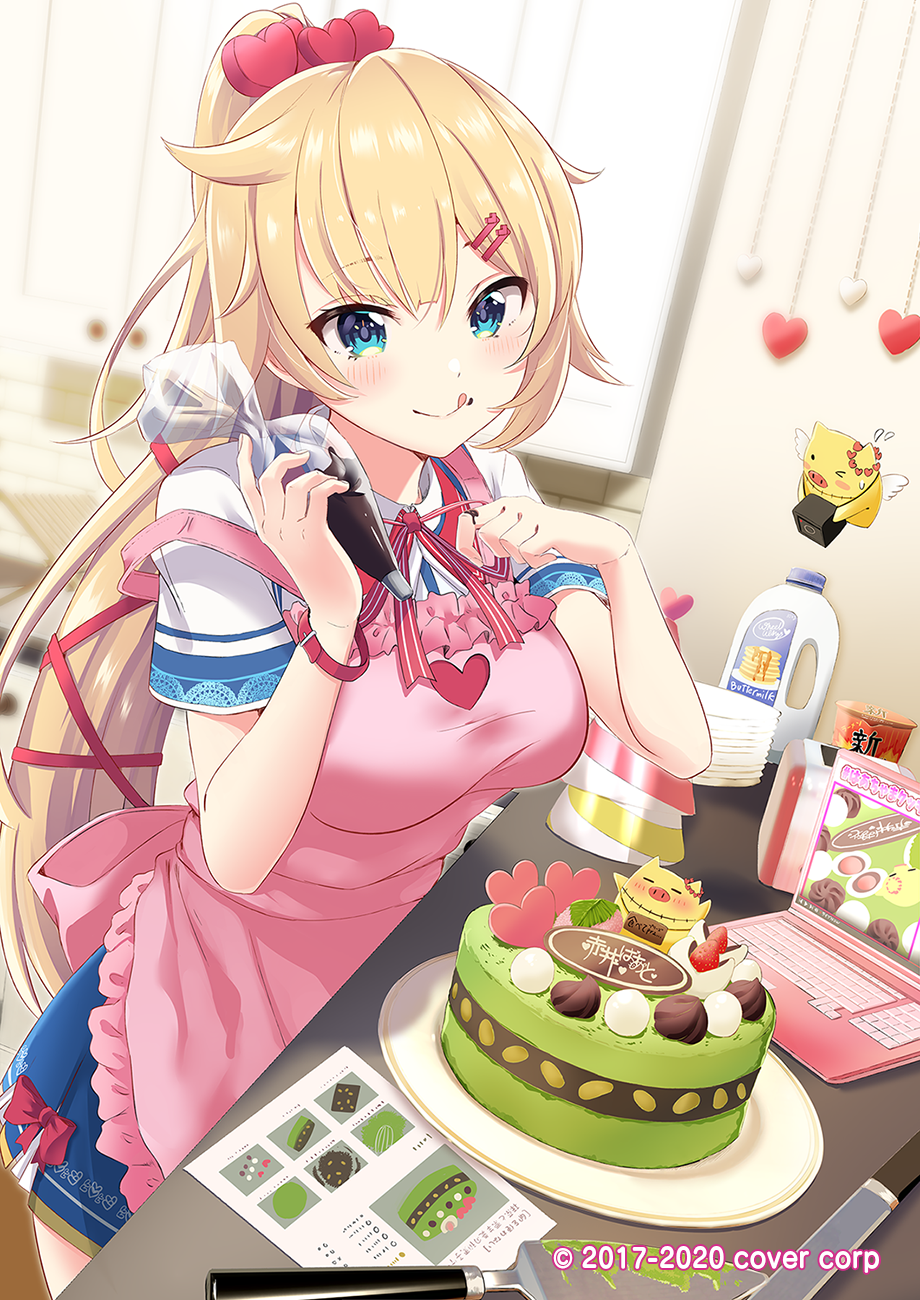纸片人正脸: (184, 28, 599, 481)
